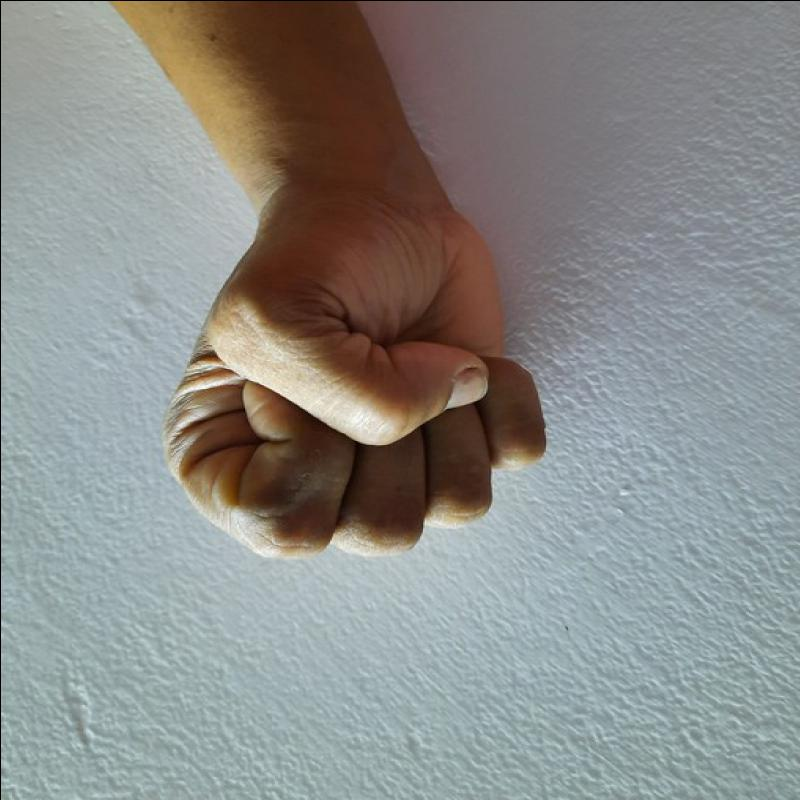Mushti: (150, 157, 568, 584)
